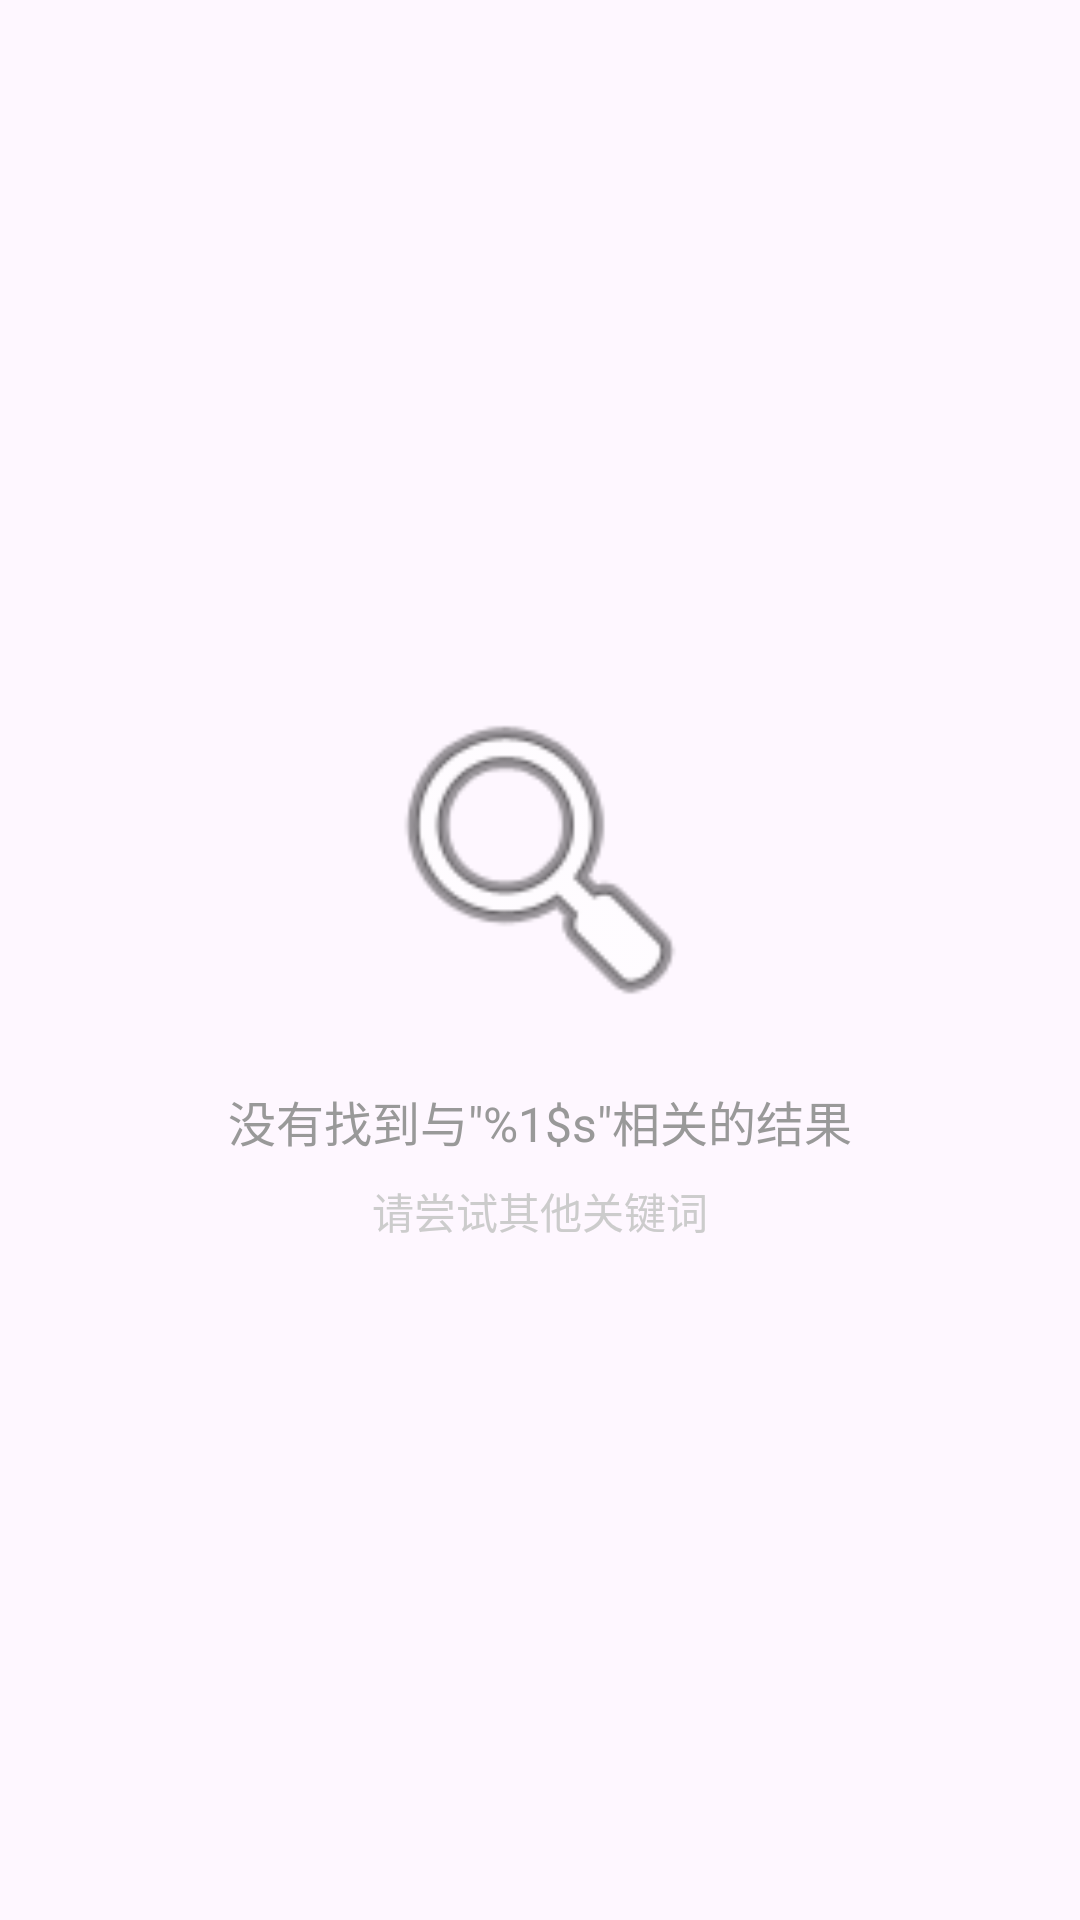

Where to tap for icons on this 1080 × 1920 app screen, as (x,y):
Empty search results: (539,860)
